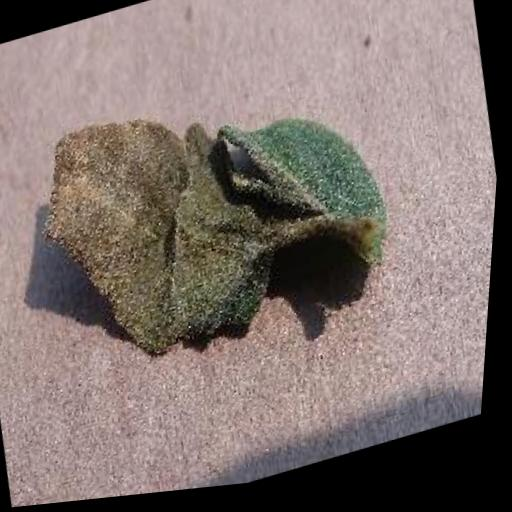Late Blight: (20, 46, 415, 398)
